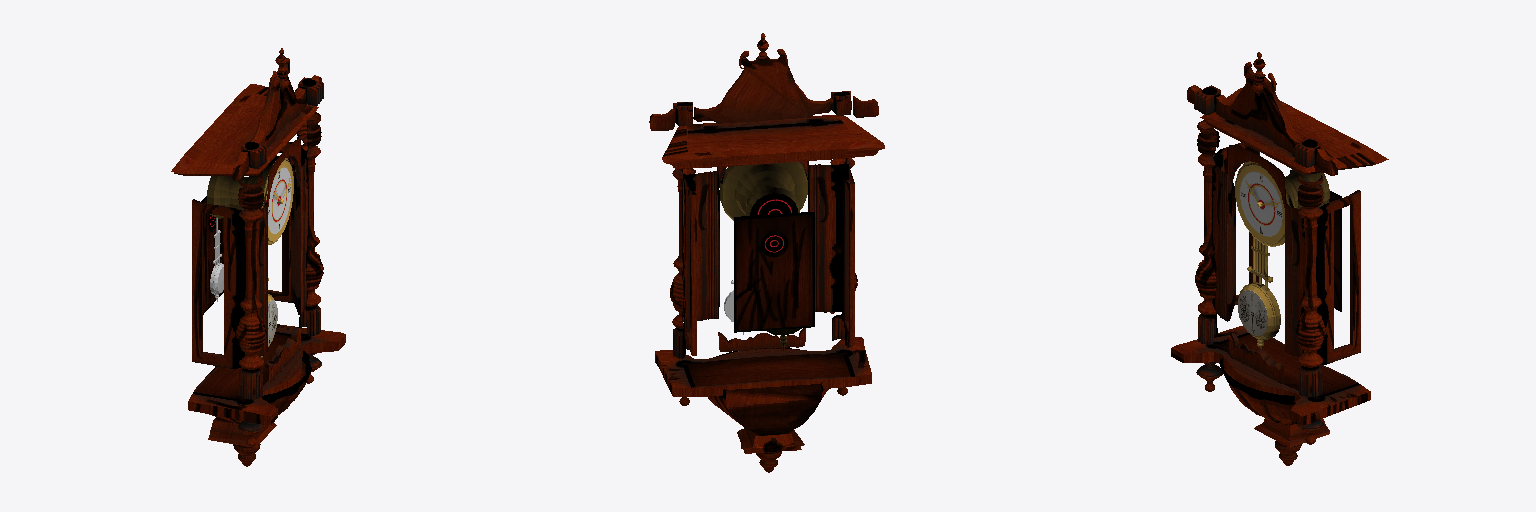
The picture shows the model from 3 angles: view 1: azimuth 30°, elevation 25°; view 2: azimuth 150°, elevation 25°; view 3: azimuth 270°, elevation 25°; orthographic projection.
Visible parts, largest first — view 1: Default, Default.002; view 2: Default; view 3: Default, Default.1.
Boxes of the visible parts, box(x1,y1,x2,y2) form: Default: box(171, 48, 345, 466); Default.002: box(210, 218, 223, 301); Default: box(649, 33, 884, 472); Default: box(1171, 52, 1388, 465); Default.1: box(1238, 237, 1280, 348).
Size of the model in its own units: 1.3 by 2.6 by 1.21.
Materials: 3 (1 with a texture image).